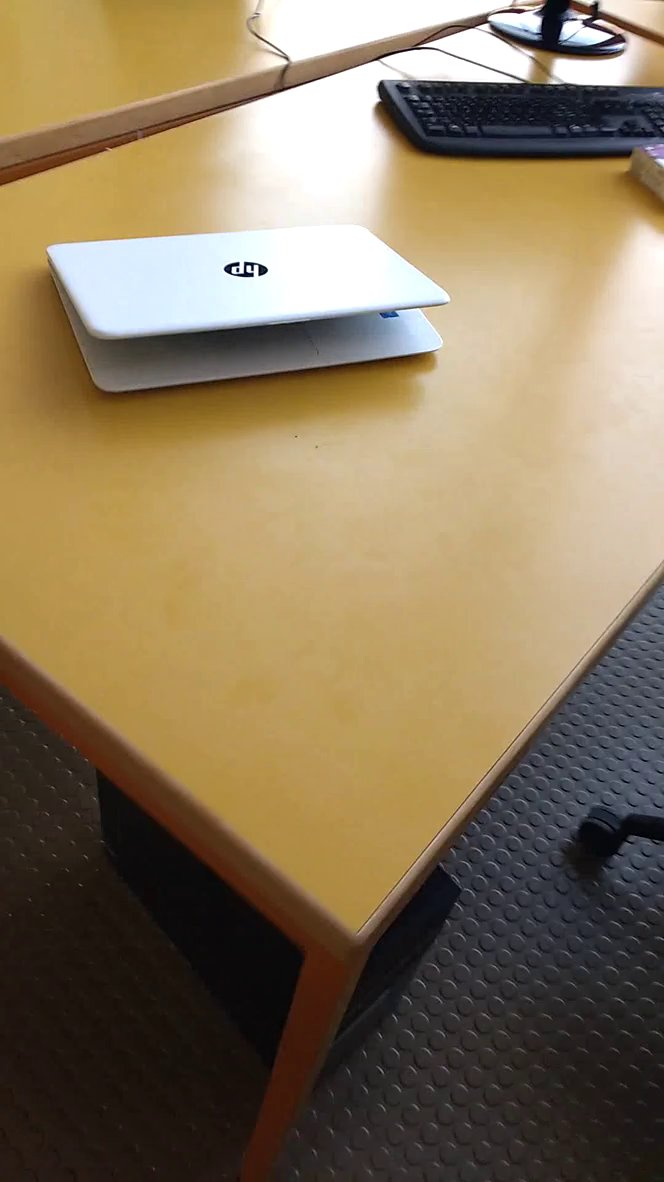laptop: (29, 202, 469, 423)
